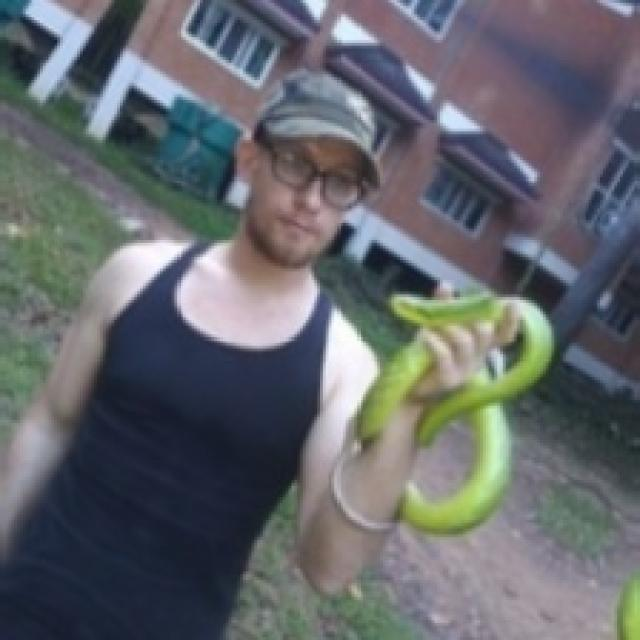red-tailed green ratsnake: (399, 301, 551, 533), (360, 332, 434, 443), (391, 292, 505, 328)
